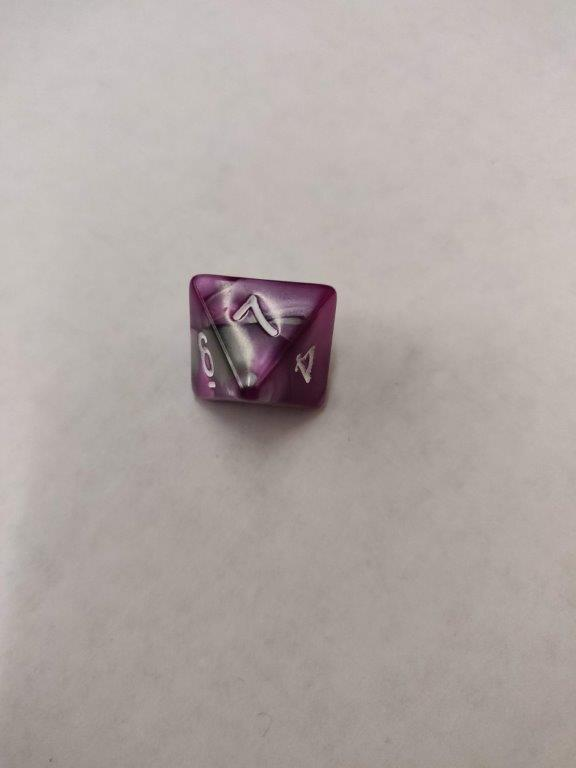d8-7: (187, 272, 337, 418)
